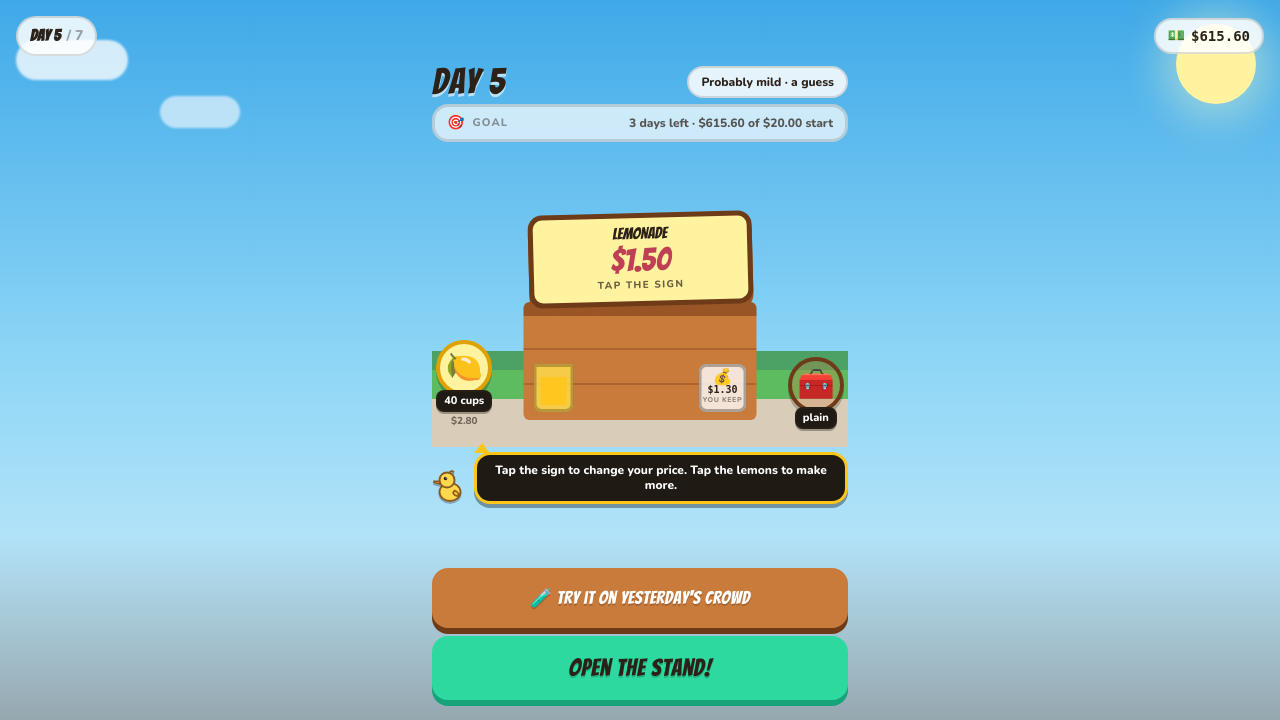
Test: the planning screen’s sheets › says how many cups can be served when nothing caps it
The image size is (1280, 720).
What coordinates should you click on to do the following:
click the button "🧰 plain"
I would click on:
 (816, 393)
Its box is [788,357,844,429].
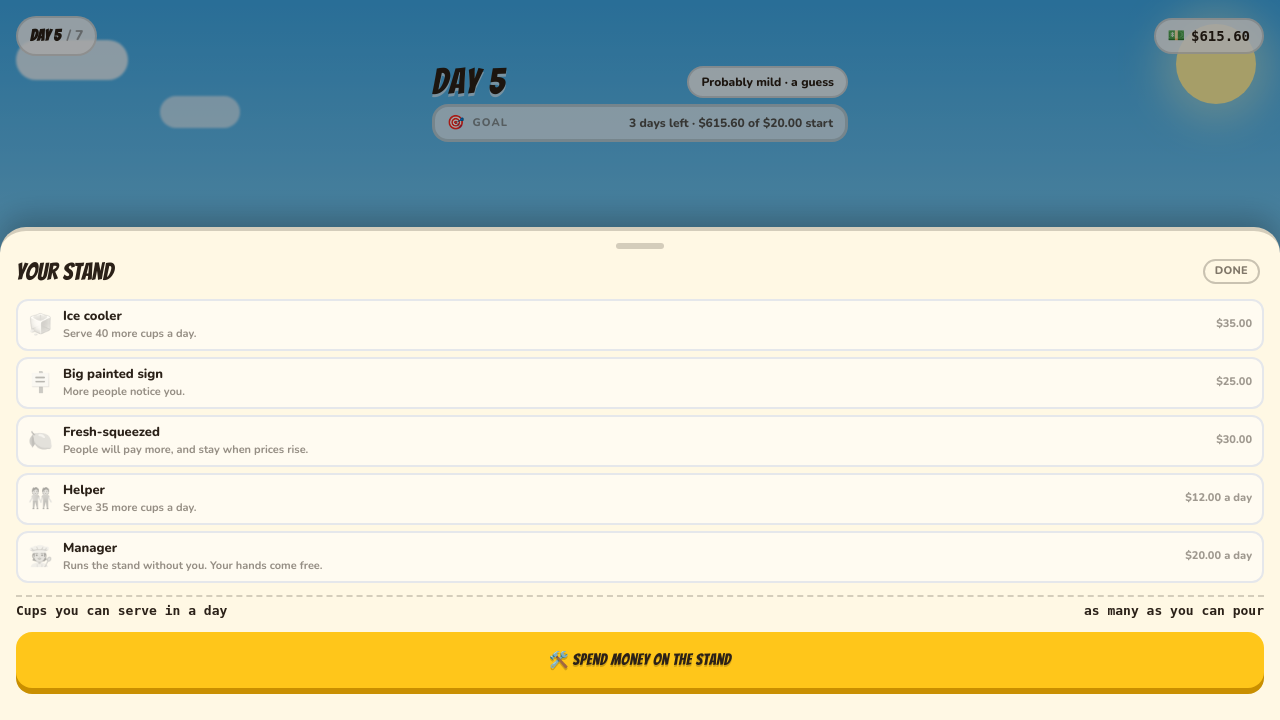
Expected: the text "as many as you can pour" is shown, [1084,600,1264,620]
